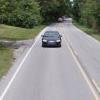Tree: (64, 1, 100, 34)
